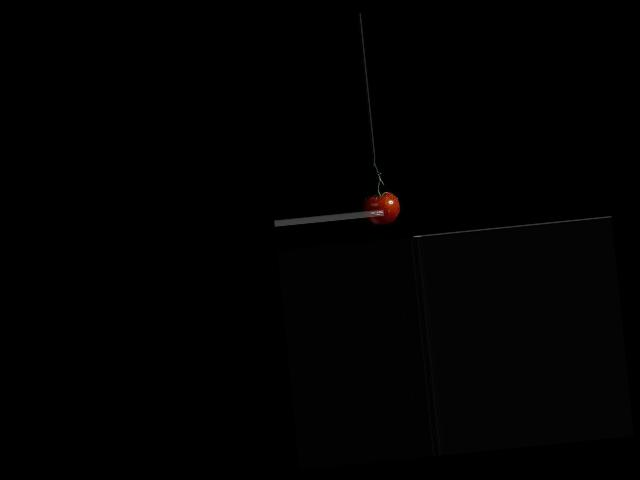tomato: (363, 191, 400, 225)
